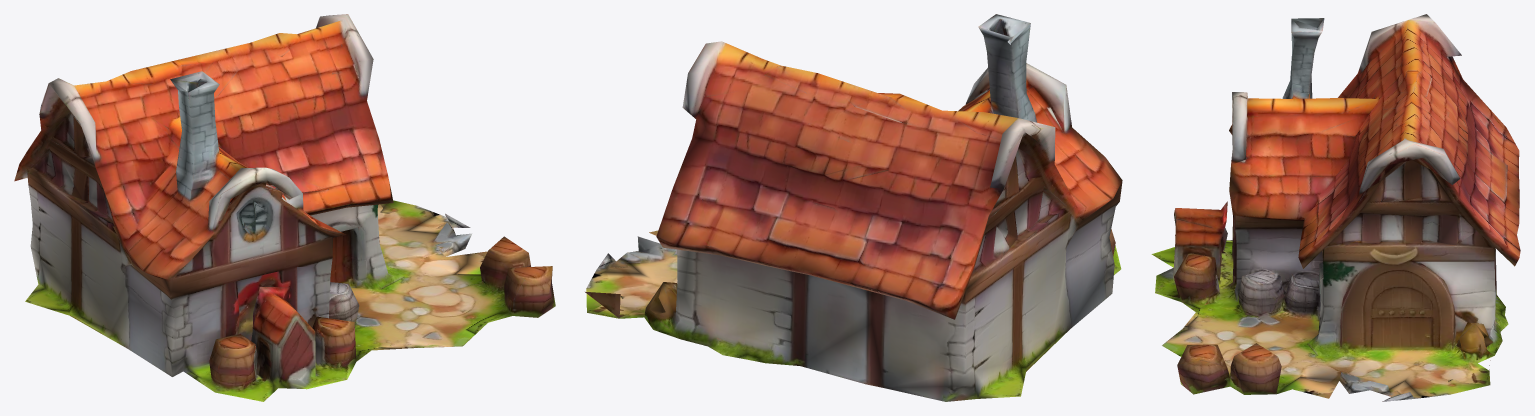
Rendered from farmhouse.glb.
3 views of the same model, side by side, from view 1: azimuth 30°, elevation 25°; view 2: azimuth 150°, elevation 25°; view 3: azimuth 270°, elevation 25° (orthographic). The views are drawn at different scales.
Parts seen in each view (by area): view 1: Mesh1.0; view 2: Mesh1.0; view 3: Mesh1.0.
Part boxes in pixels (x1,y1,x2,y2): Mesh1.0: (14, 14, 555, 401); Mesh1.0: (585, 14, 1122, 401); Mesh1.0: (1151, 14, 1520, 401).
Bounding box in the file's own units: 1.97 × 1.19 × 1.67.
Materials: 1 (1 with a texture image).
